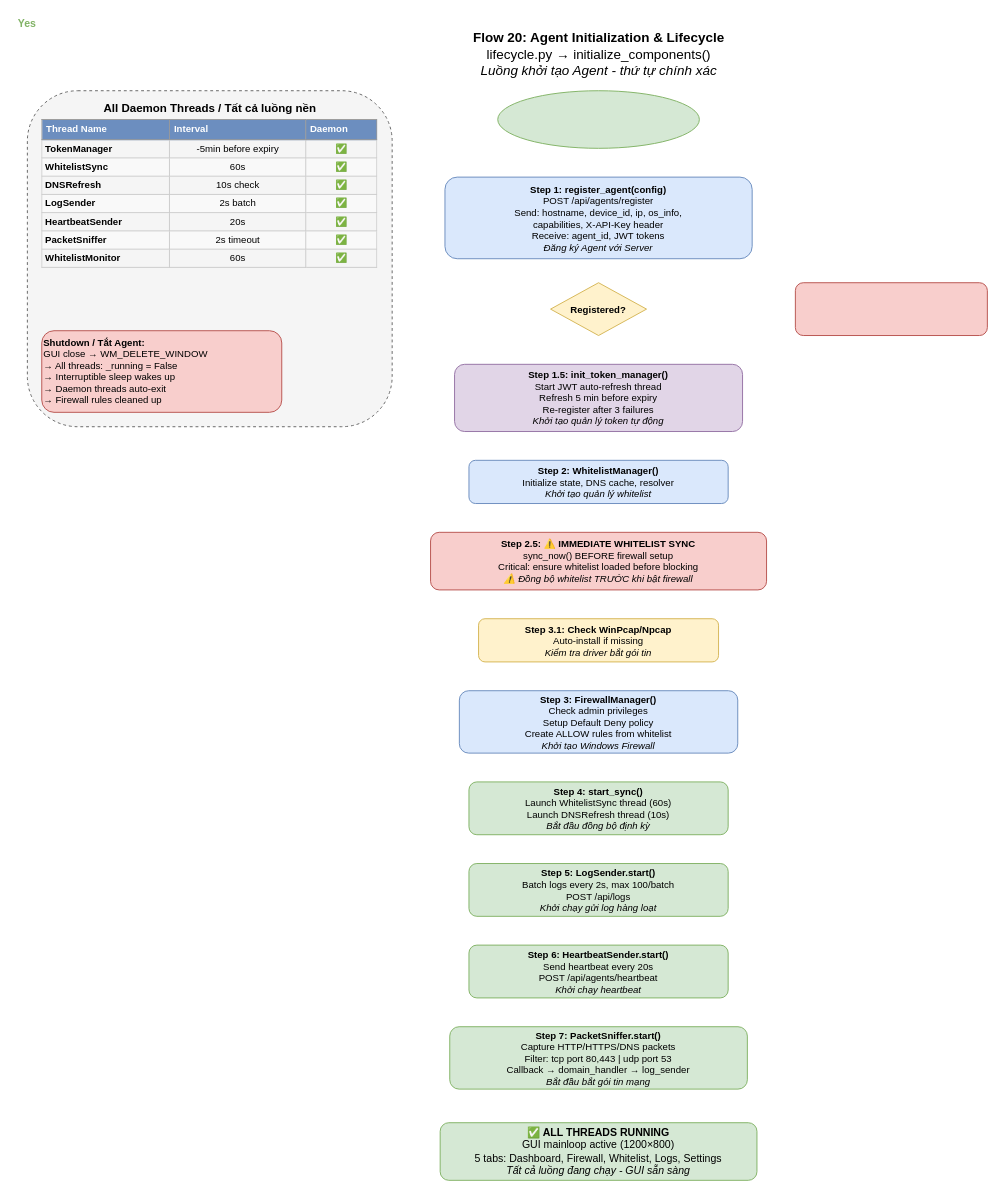
Image size: 1004x1197. Some labels were removed from this diagram. Here are the shapes that lost their labels. From the top down, the centre of each, then its label:
At point 598,119: "agent_gui.py → main() User double-clicks SAINT.exe Khởi chạy Agent".
At point 890,309: "FATAL ERROR Cannot connect to server Show error in GUI Không kết nối được Server".
